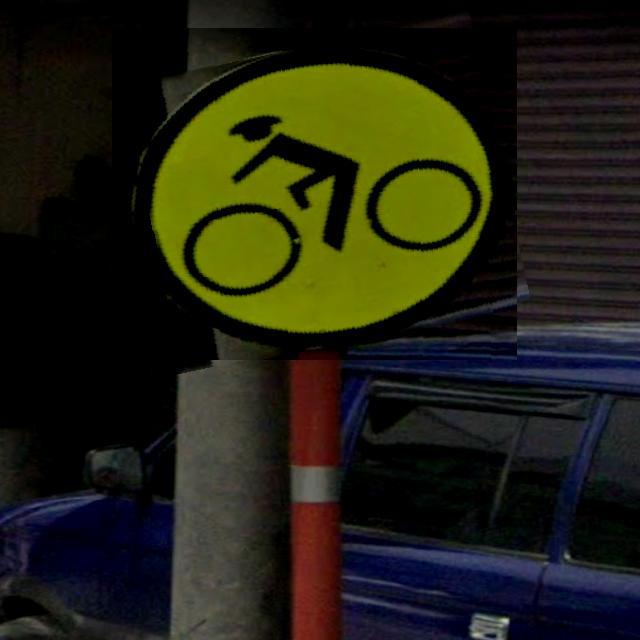bike lane: (112, 28, 517, 360)
